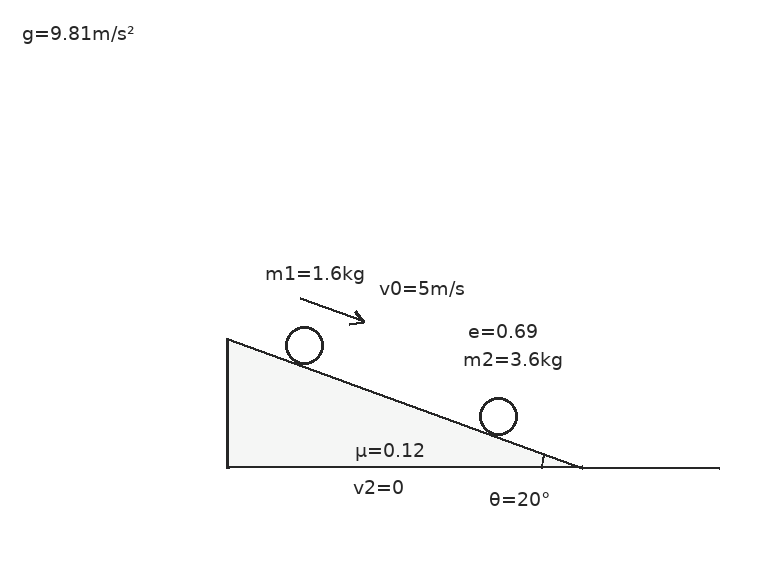ball: (283, 324, 325, 366), (477, 395, 519, 437)
ramp: (225, 336, 584, 469)
